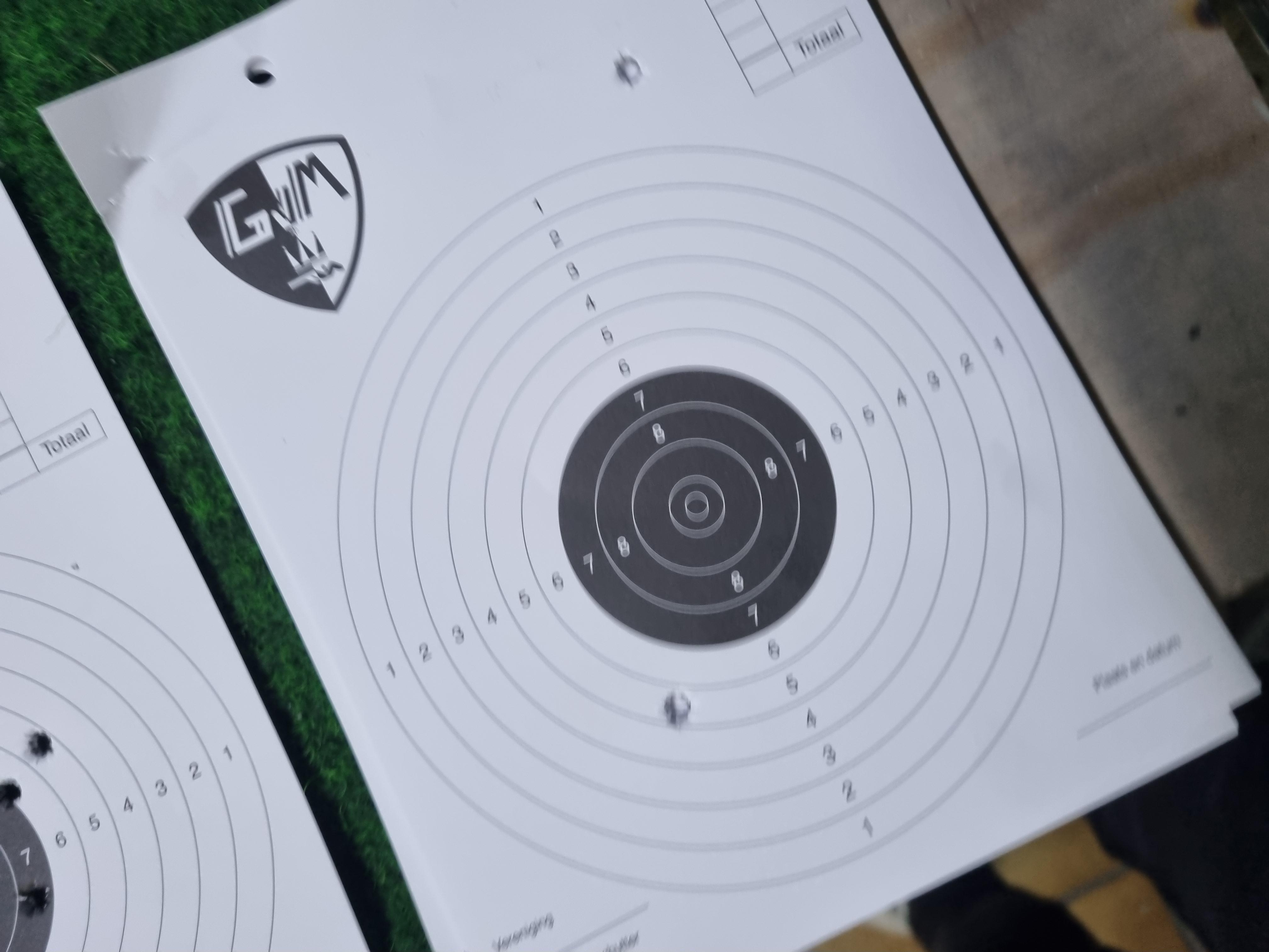hole: (39, 14, 94, 40), (299, 496, 350, 519), (254, 19, 298, 41), (186, 0, 235, 17)
